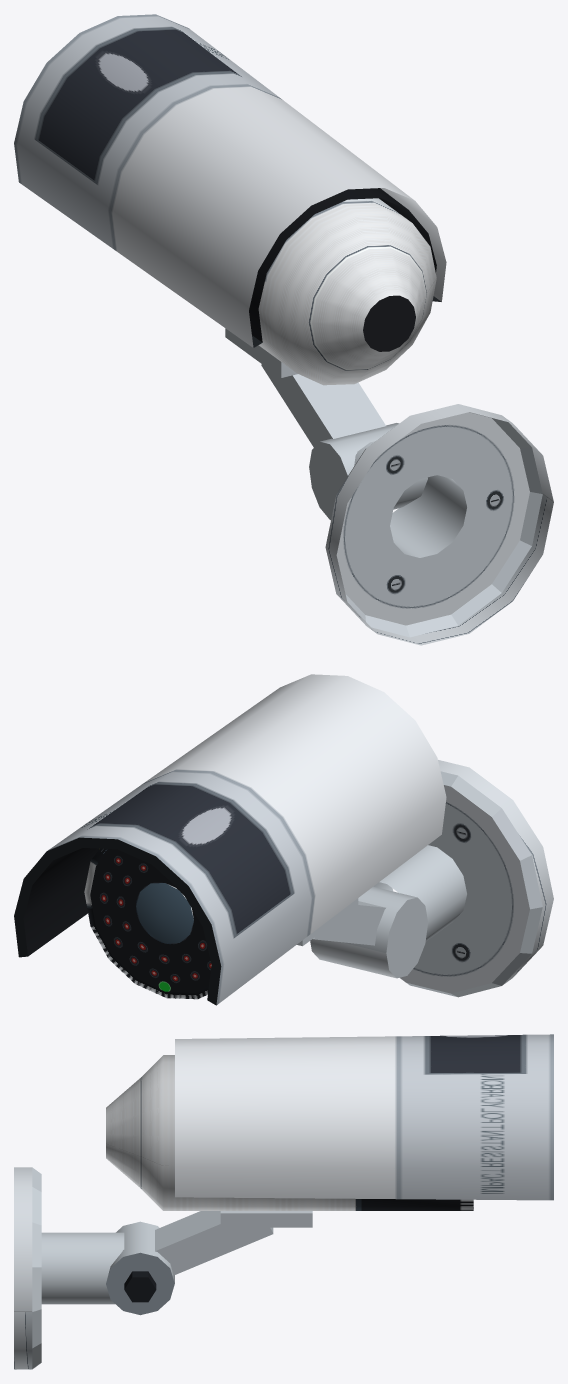
The model's file is SEC_Camera_Bullet_Outdoor.fbx.
The picture shows the model from 3 angles, top to bottom: view 1: azimuth 30°, elevation 25°; view 2: azimuth 150°, elevation 25°; view 3: azimuth 270°, elevation 25°; orthographic projection. The views are drawn at different scales.
Parts seen in each view (by area): view 1: Camera_Body, Wall_Mount_Plate, Bracket; view 2: Camera_Body, Wall_Mount_Plate, IR_LED_Ring, Bracket, Lens_Glass; view 3: Camera_Body, Wall_Mount_Plate, Bracket.
Boxes of the visible parts, <box> form: Camera_Body: <box>14,14,446,385</box>; Wall_Mount_Plate: <box>325,404,553,645</box>; Bracket: <box>225,328,427,520</box>; Camera_Body: <box>14,674,446,1005</box>; Wall_Mount_Plate: <box>373,760,553,997</box>; IR_LED_Ring: <box>90,849,211,992</box>; Bracket: <box>297,886,427,978</box>; Lens_Glass: <box>136,883,193,943</box>; Camera_Body: <box>106,1034,553,1210</box>; Wall_Mount_Plate: <box>14,1167,124,1369</box>; Bracket: <box>106,1211,312,1315</box>.
Size of the model in its own units: 9 by 15.19 by 23.5.
Materials: 3 (2 with a texture image).
